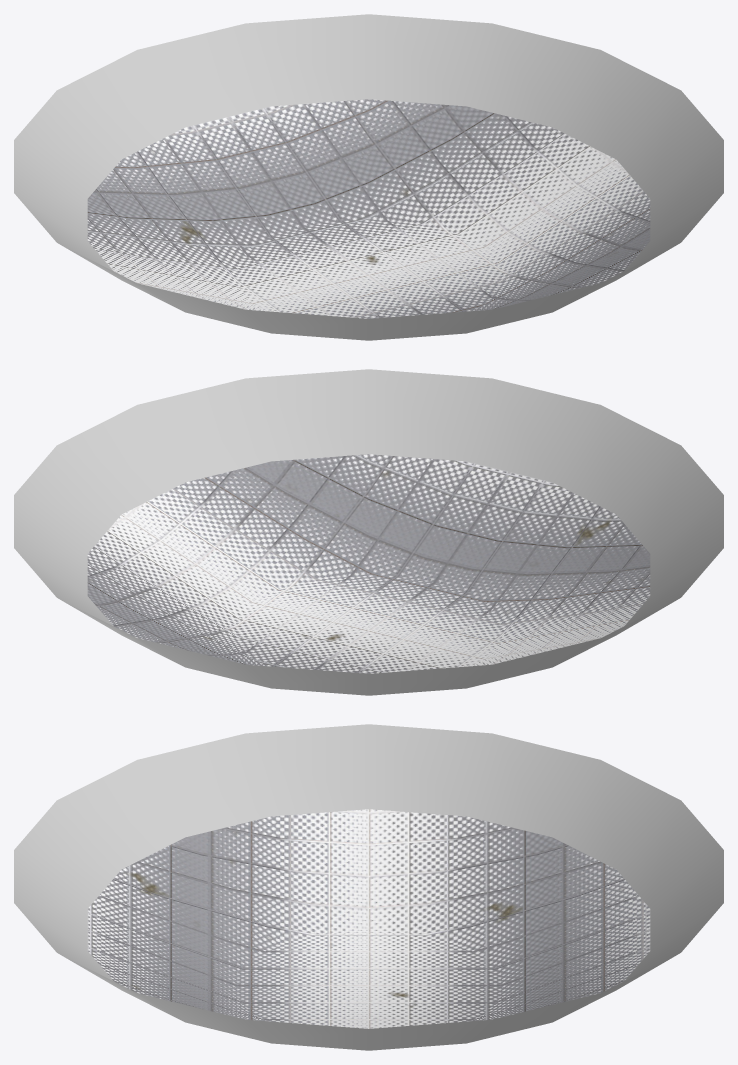
The model's file is ceiling_light.FBX.
3 views of the same model, one above another, from view 1: azimuth 30°, elevation 25°; view 2: azimuth 150°, elevation 25°; view 3: azimuth 270°, elevation 25° (orthographic).
Visible parts, largest first — view 1: ceiling_light; view 2: ceiling_light; view 3: ceiling_light.
Part boxes in pixels (bbox=[...]): ceiling_light: bbox=[14, 14, 723, 340]; ceiling_light: bbox=[14, 369, 723, 695]; ceiling_light: bbox=[14, 724, 723, 1050].
Size of the model in its own units: 67.89 by 11.34 by 66.86.
